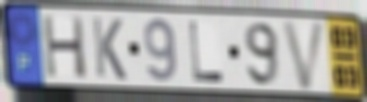9: (242, 20, 282, 87), (142, 16, 180, 86)
H: (40, 13, 89, 80)
K: (90, 15, 129, 83)
L: (186, 19, 226, 84)
V: (280, 19, 329, 92)
